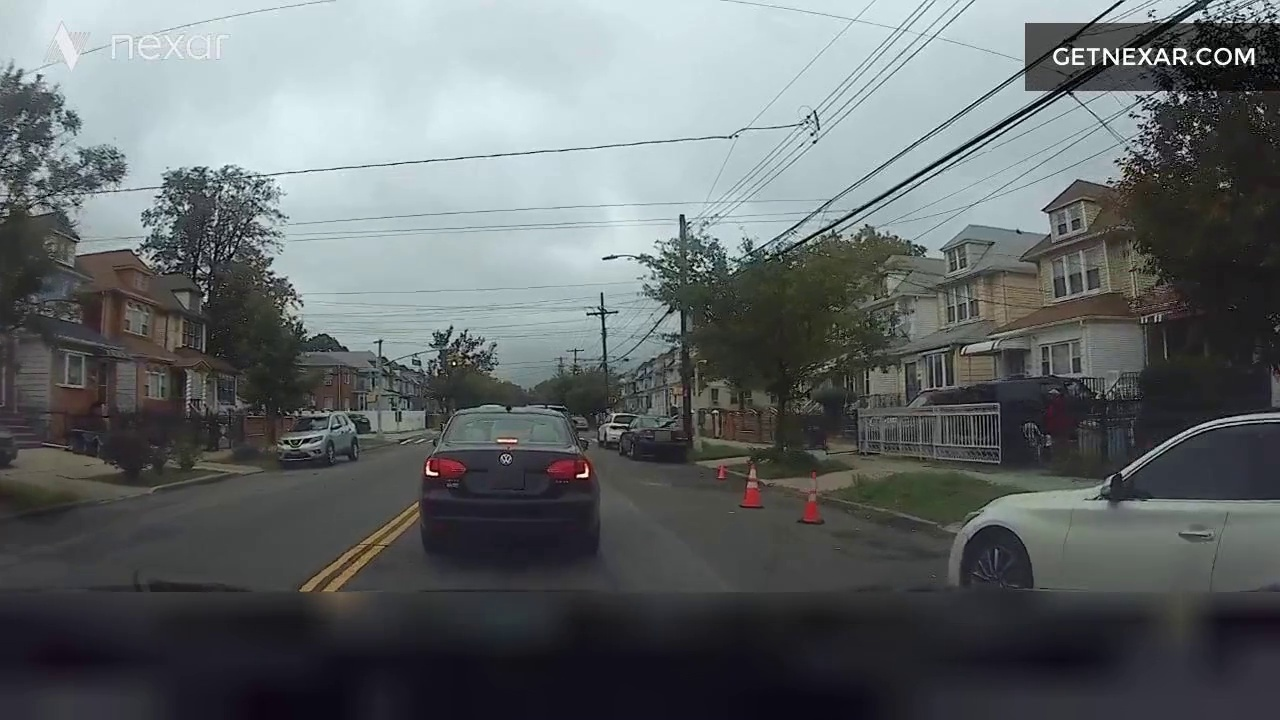car: (950, 426, 1280, 622), (415, 391, 611, 552), (256, 387, 372, 472), (616, 403, 695, 472)
person: (1030, 384, 1079, 470)
traffic light: (426, 340, 479, 383)
